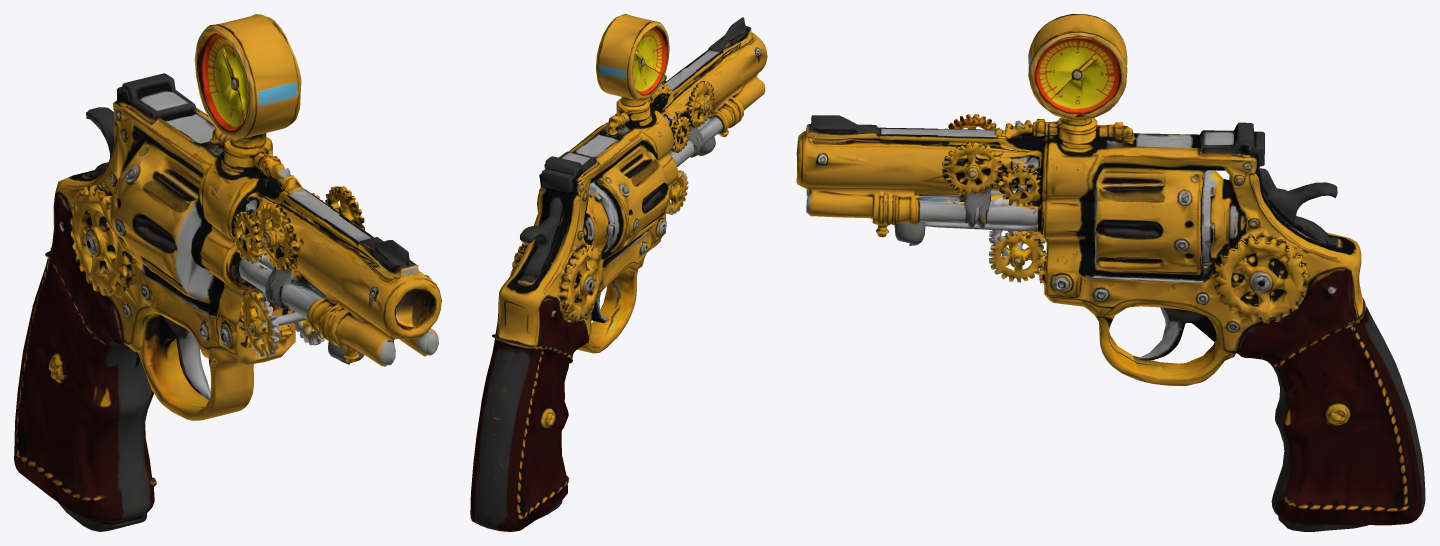
The model's file is pirate-gun.glb.
The picture shows the model from 3 angles, left to right: view 1: azimuth 30°, elevation 25°; view 2: azimuth 150°, elevation 25°; view 3: azimuth 270°, elevation 25°; orthographic projection. The views are drawn at different scales.
Parts seen in each view (by area): view 1: tripo_node_982114dc-3267-4af0-baa4-ece589031cc5; view 2: tripo_node_982114dc-3267-4af0-baa4-ece589031cc5; view 3: tripo_node_982114dc-3267-4af0-baa4-ece589031cc5.
Part boxes in pixels (x1=…): tripo_node_982114dc-3267-4af0-baa4-ece589031cc5: x1=14, y1=14, x2=441, y2=531; tripo_node_982114dc-3267-4af0-baa4-ece589031cc5: x1=470, y1=14, x2=767, y2=531; tripo_node_982114dc-3267-4af0-baa4-ece589031cc5: x1=796, y1=14, x2=1425, y2=531.
Size of the model in its own units: 0.2087 by 0.8736 by 0.9997.
1 material, 1 textured.
